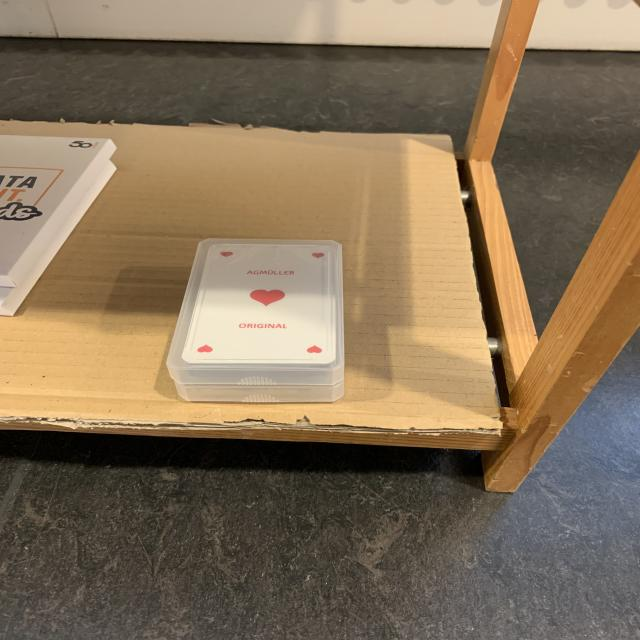Jasskarte: (165, 238, 344, 384), (175, 381, 343, 403)
